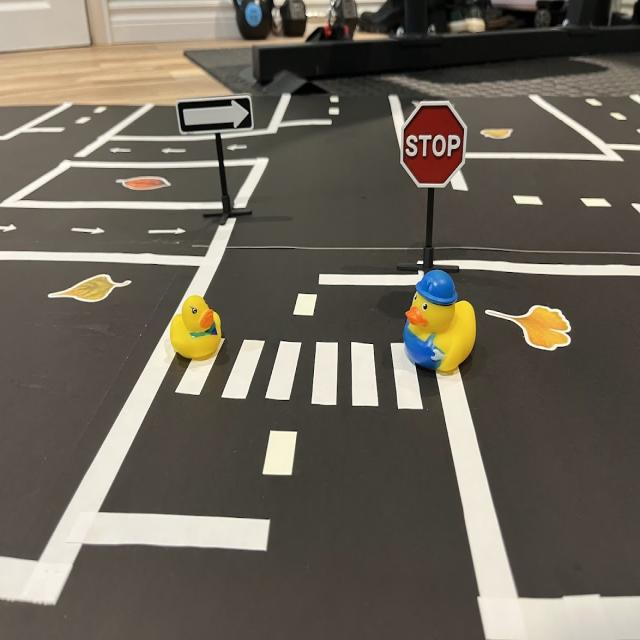duck_regular: (171, 298, 222, 360)
duck_specialty: (405, 270, 479, 378)
road_crosswalk: (164, 334, 430, 416)
road_oneway: (69, 224, 111, 238), (227, 141, 257, 158), (147, 227, 189, 239), (106, 146, 140, 158), (158, 146, 189, 158), (1, 222, 21, 240)
sign_oneway_right: (176, 98, 254, 136)
sign_stop: (404, 106, 465, 189)
